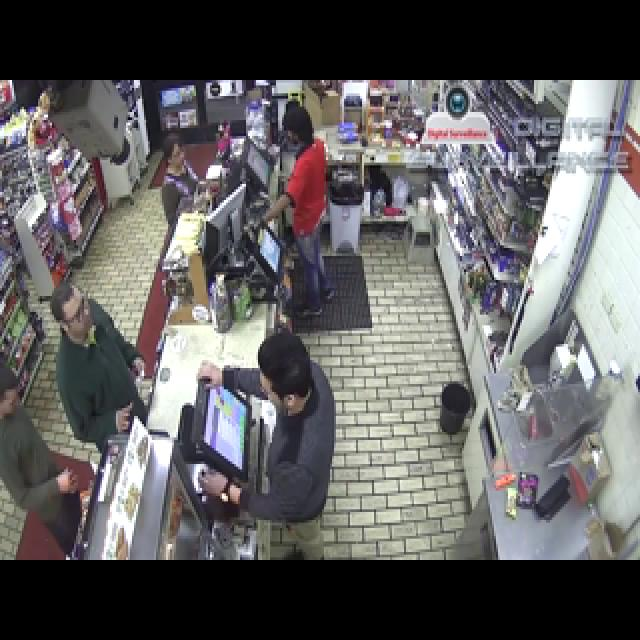vandalism: (2, 83, 640, 561)
